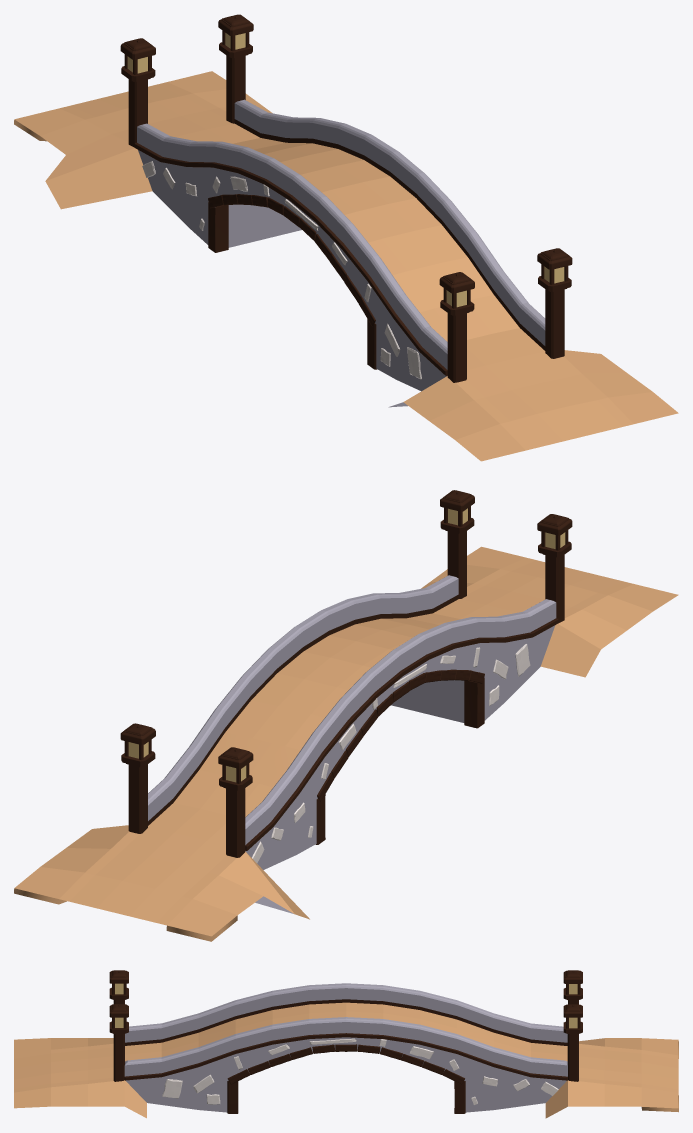
The model's file is village_stone_bridge.fbx.
3 renders of one model, top to bottom at view 1: azimuth 30°, elevation 25°; view 2: azimuth 150°, elevation 25°; view 3: azimuth 270°, elevation 25°, orthographic. The views are drawn at different scales.
Visible parts, largest first — view 1: Cube.001; view 2: Cube.001; view 3: Cube.001.
Part boxes in pixels (left/top/right/bottom): Cube.001: left=14, top=14, right=678, bottom=461; Cube.001: left=14, top=490, right=678, bottom=941; Cube.001: left=14, top=970, right=678, bottom=1118.
Size of the model in its own units: 9.18 by 5.93 by 33.19.
